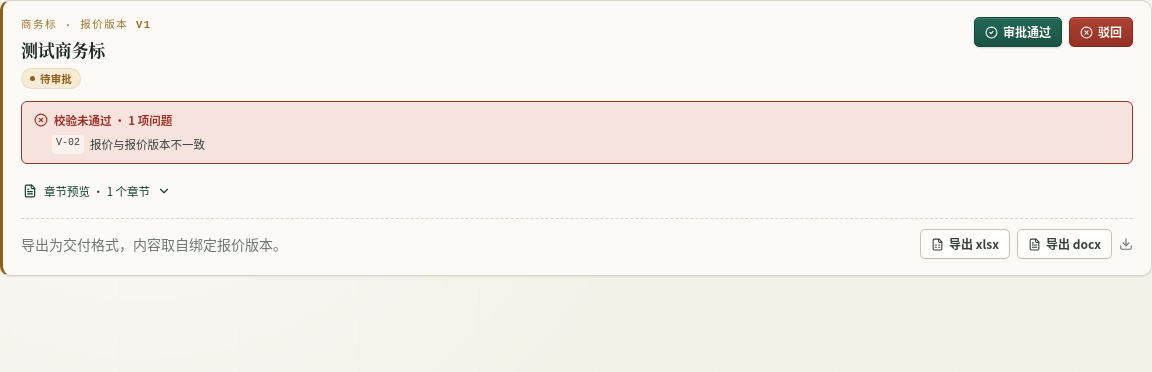
Test: CommercialDocCard › shows status, validation issues and expands the section table
This screenshot has width=1152, height=372.
Expected: the text "待审批" is shown, 21,68 -> 81,89
Expected: the text "报价与报价版本不一致" is shown, 90,135 -> 205,154
What coordinates should you click on to do the following:
click the button "章节预览 · 1 个章节"
I would click on:
 (97, 191)
Its box is 21,176 -> 173,206.
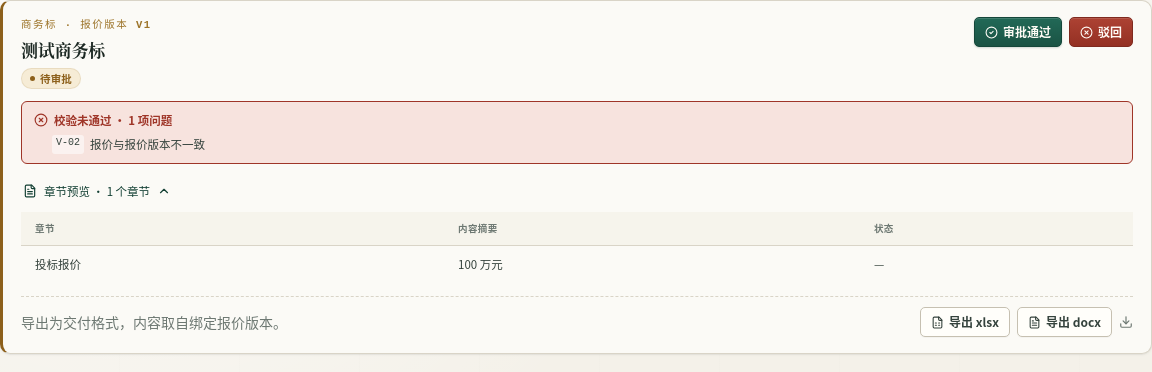
Expected: the text "投标报价" is shown, 21,246 -> 444,284
Expected: the text "100 万元" is shown, 444,246 -> 860,284
